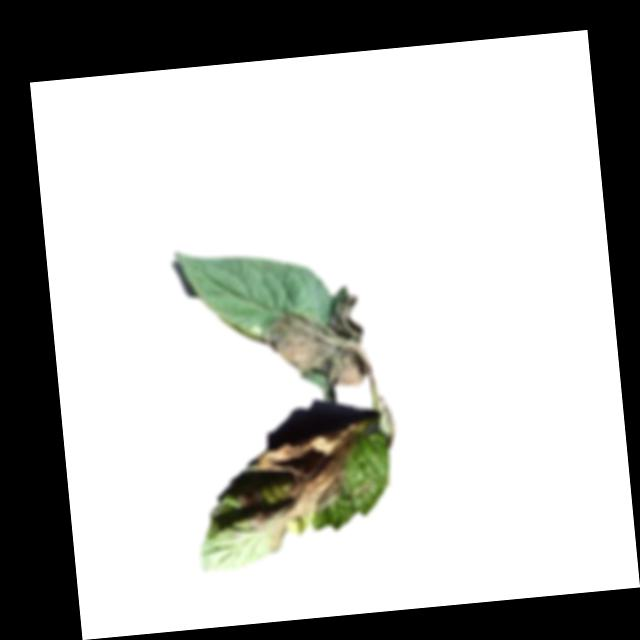Late_blight: (224, 423, 372, 557), (259, 284, 372, 394)
